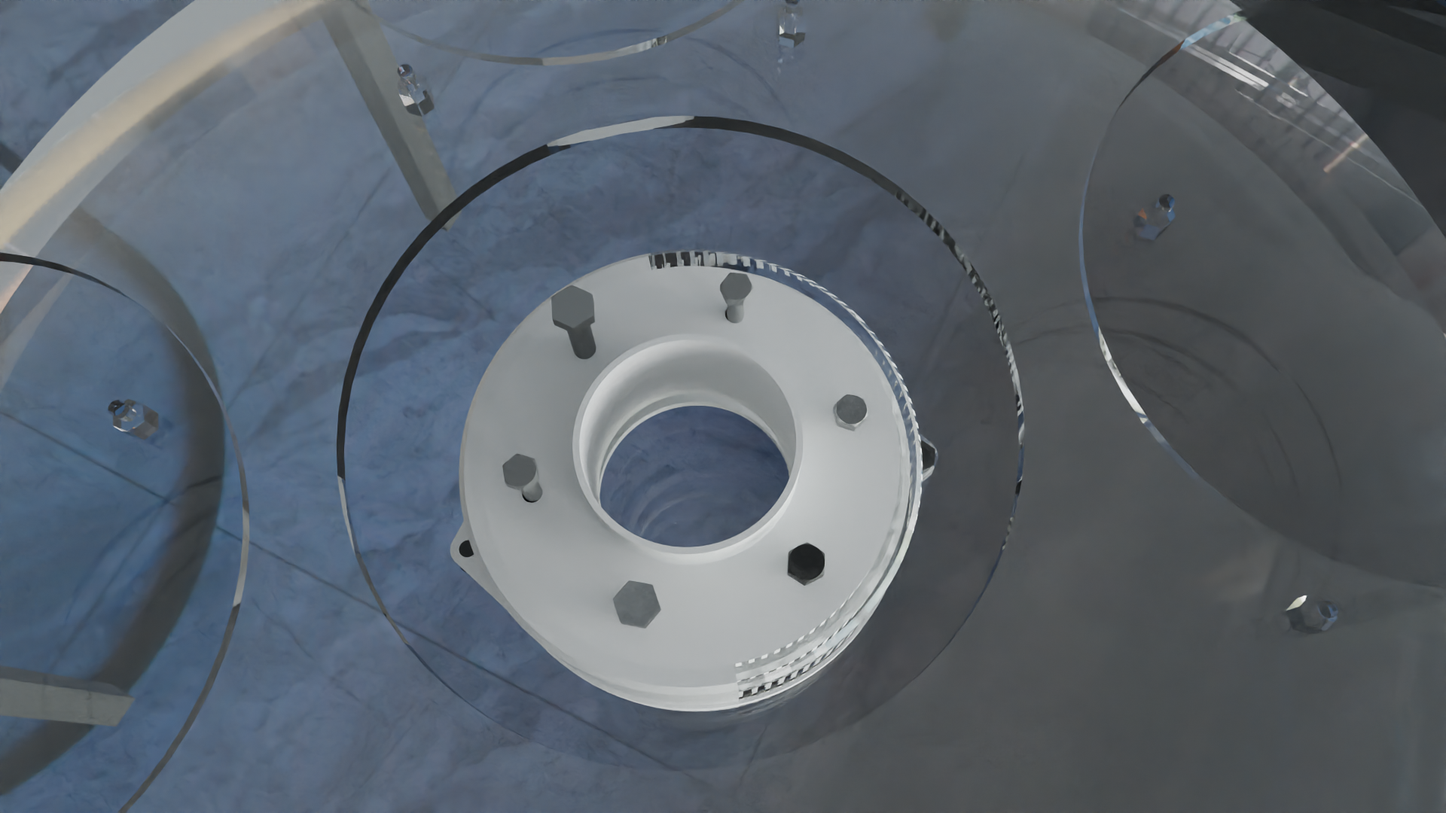bolt: (612, 580, 660, 626), (551, 285, 593, 328), (788, 542, 825, 583), (502, 453, 538, 489), (834, 394, 868, 427), (720, 273, 754, 301)
